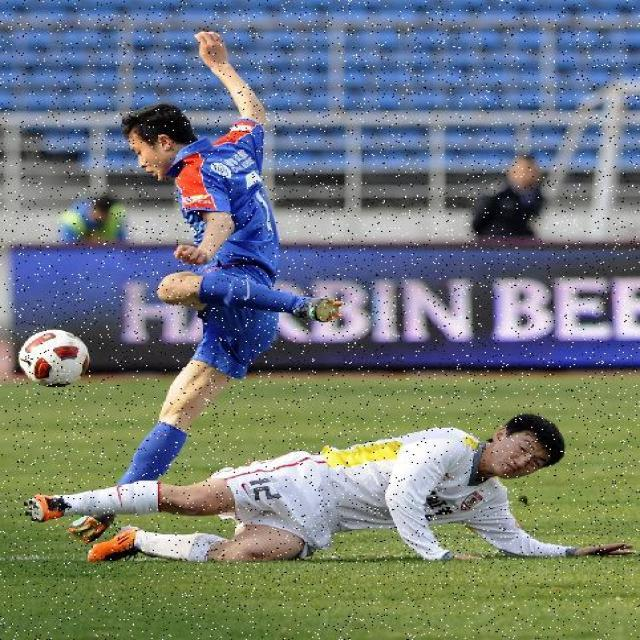fall: (54, 419, 566, 563)
